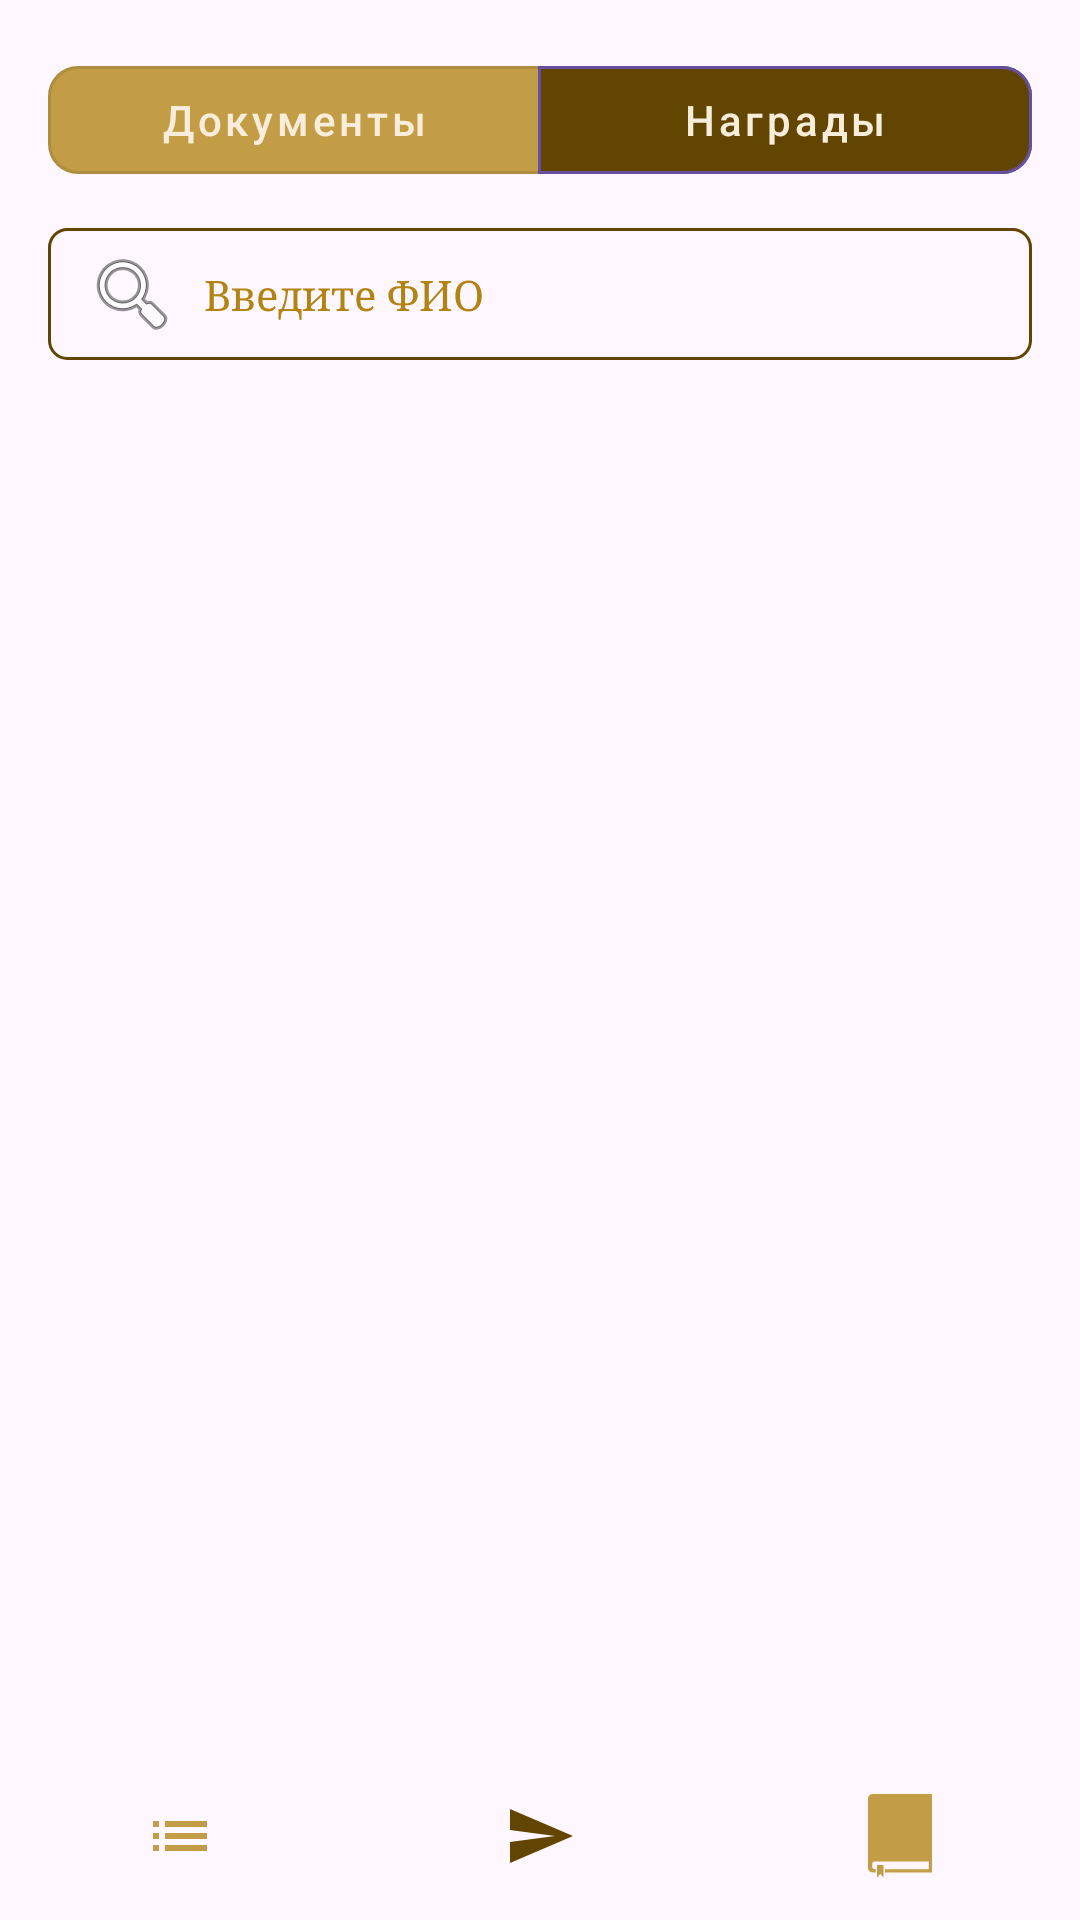

Point at icon controls on the screen. Image size 1080w x 1920h, points as (x=x, y=y).
Личный дневник: (x=900, y=1835)
